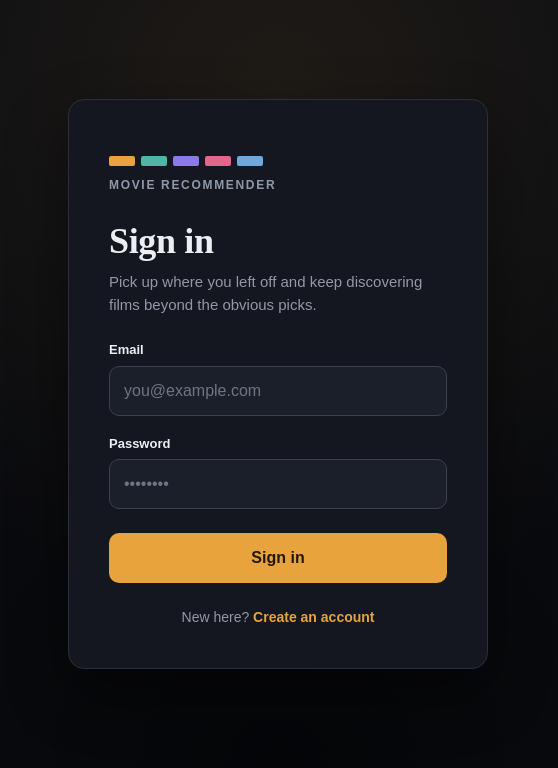
Test: AuthForm › shows backend authentication errors
Type "person@example.com" into the field labelled "Email".
click(278, 391); type("person@example.com")  # box [109,366,447,416]
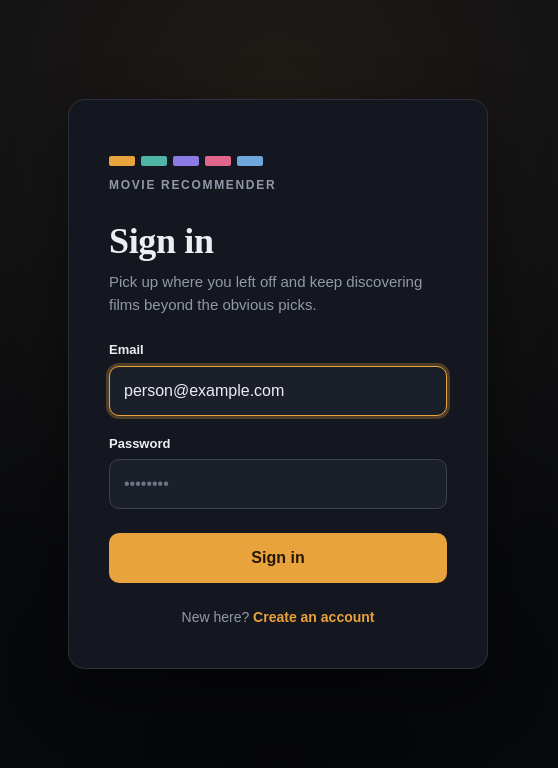
Type "wrongpass" into the password field labelled "Password".
click(278, 484); type("wrongpass")  # box [109,459,447,509]
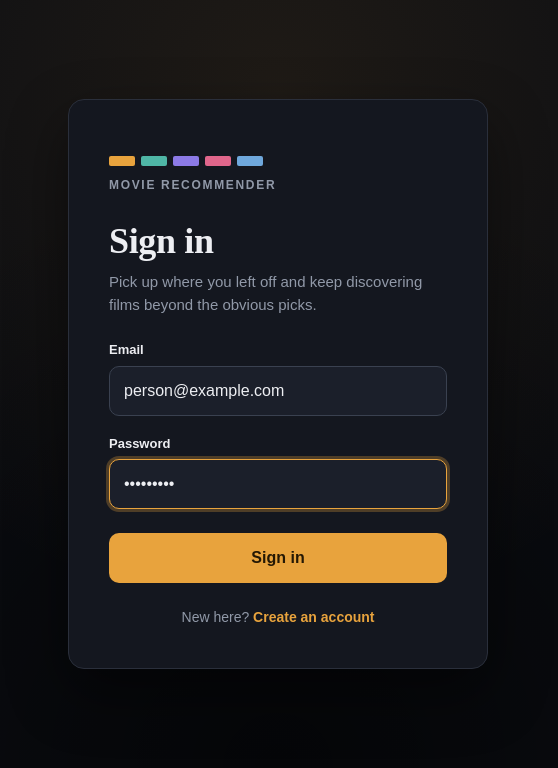
Click the button "Sign in".
click(278, 558)  # box [109,533,447,583]
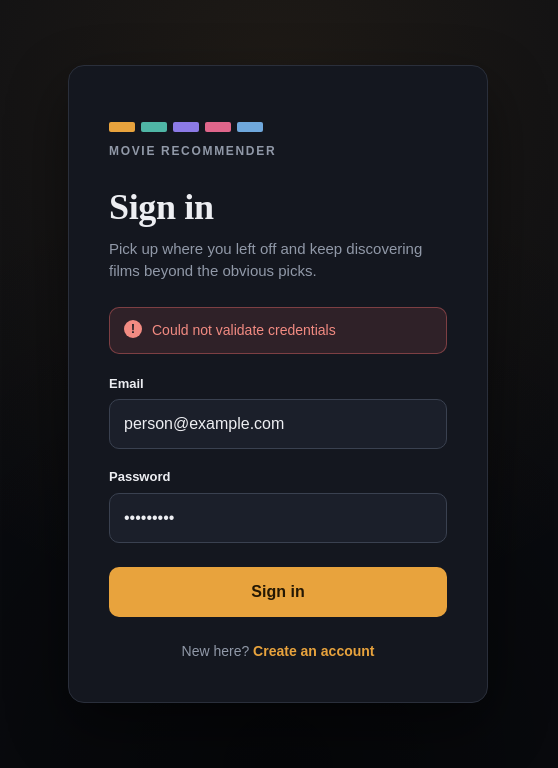
Check: the message shows "Could not validate credentials", box [152,322,336,338]
